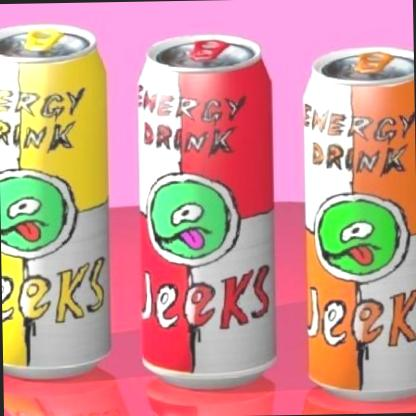alumunium_can: (133, 29, 283, 388), (296, 43, 416, 408), (0, 18, 112, 381)
